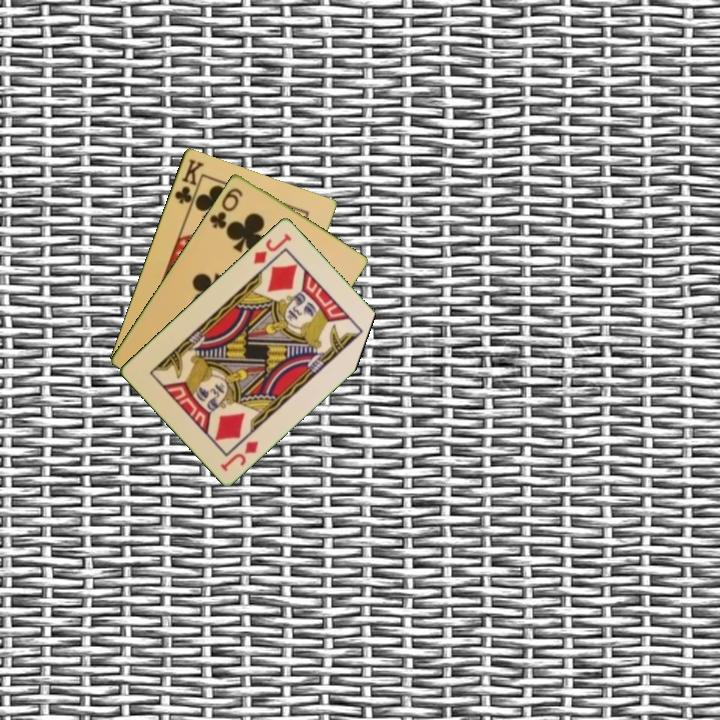6c: (206, 184, 245, 231)
Jd: (250, 229, 294, 267), (217, 437, 261, 474)
Kc: (171, 155, 207, 212)
